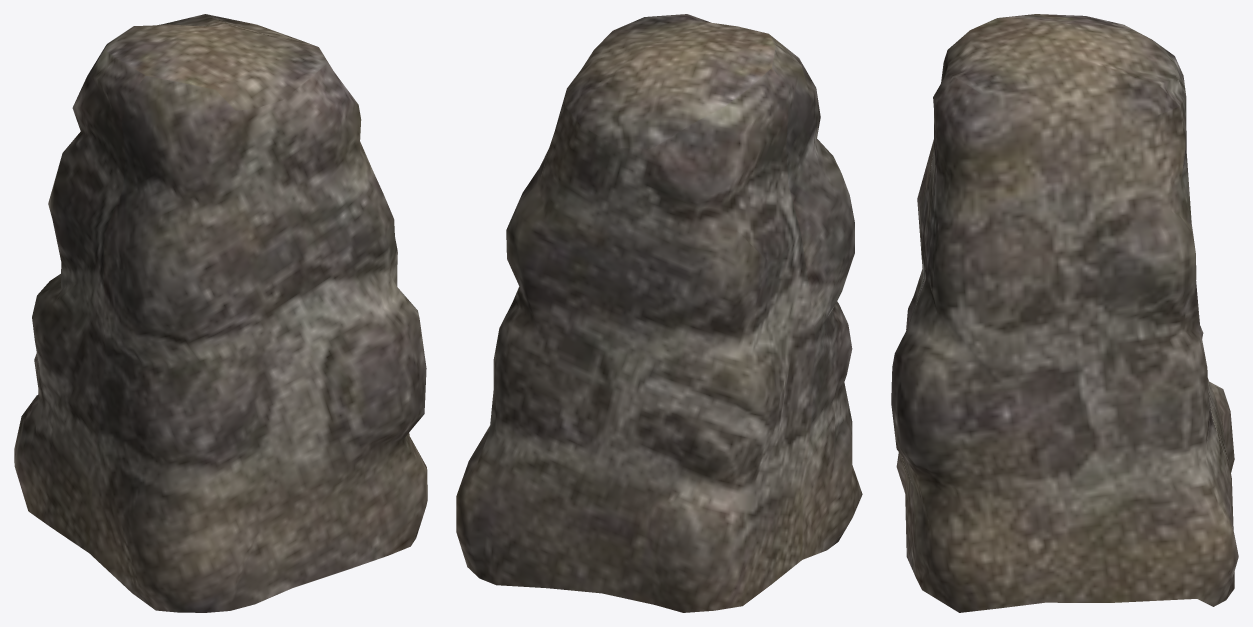
Rendered from Ruins_Coll_A-transformed.glb.
3 renders of one model, left to right at view 1: azimuth 30°, elevation 25°; view 2: azimuth 150°, elevation 25°; view 3: azimuth 270°, elevation 25°, orthographic.
Visible parts, largest first — view 1: default; view 2: default; view 3: default.
Part boxes in pixels (x1=…): default: x1=14, y1=14, x2=427, y2=612; default: x1=456, y1=14, x2=862, y2=612; default: x1=891, y1=14, x2=1238, y2=612.
Size of the model in its own units: 1.07 by 1.75 by 1.09.
Materials: 1 (1 with a texture image).
